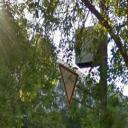preferencia: (56, 62, 82, 108)
